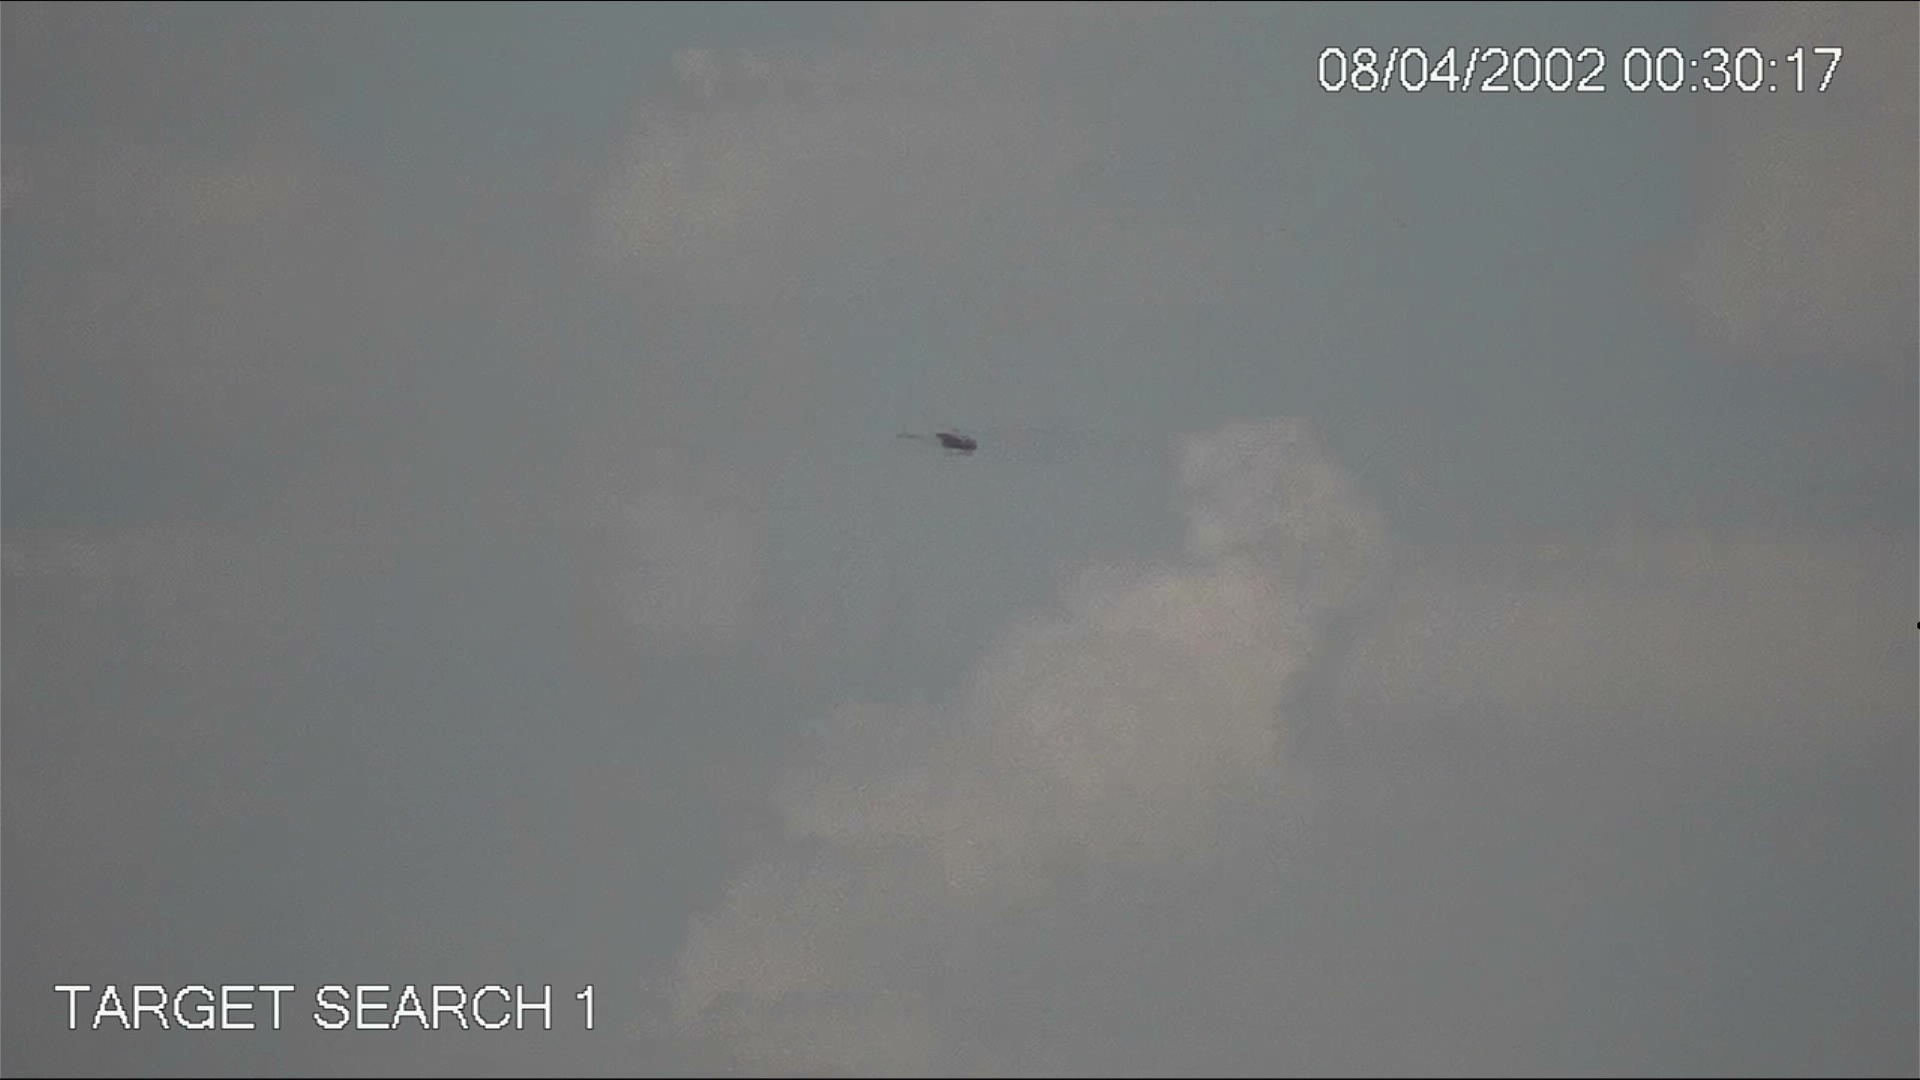SU_30: (890, 411, 981, 462)
